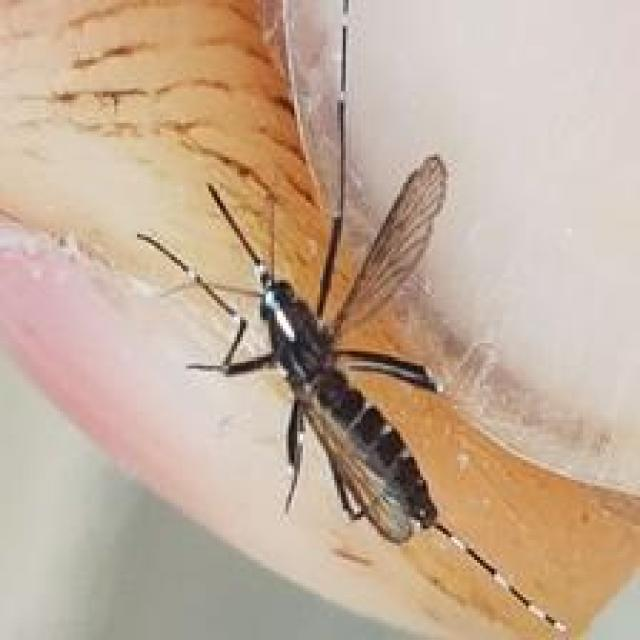Aedes albopictus: (134, 0, 586, 640)
